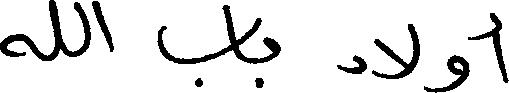X: (158, 1, 223, 91), (374, 19, 419, 83), (424, 32, 468, 92), (493, 8, 508, 87), (94, 0, 113, 56), (0, 29, 29, 61), (225, 0, 239, 63), (75, 0, 89, 61), (50, 0, 62, 65), (341, 50, 365, 78), (264, 32, 280, 66)
